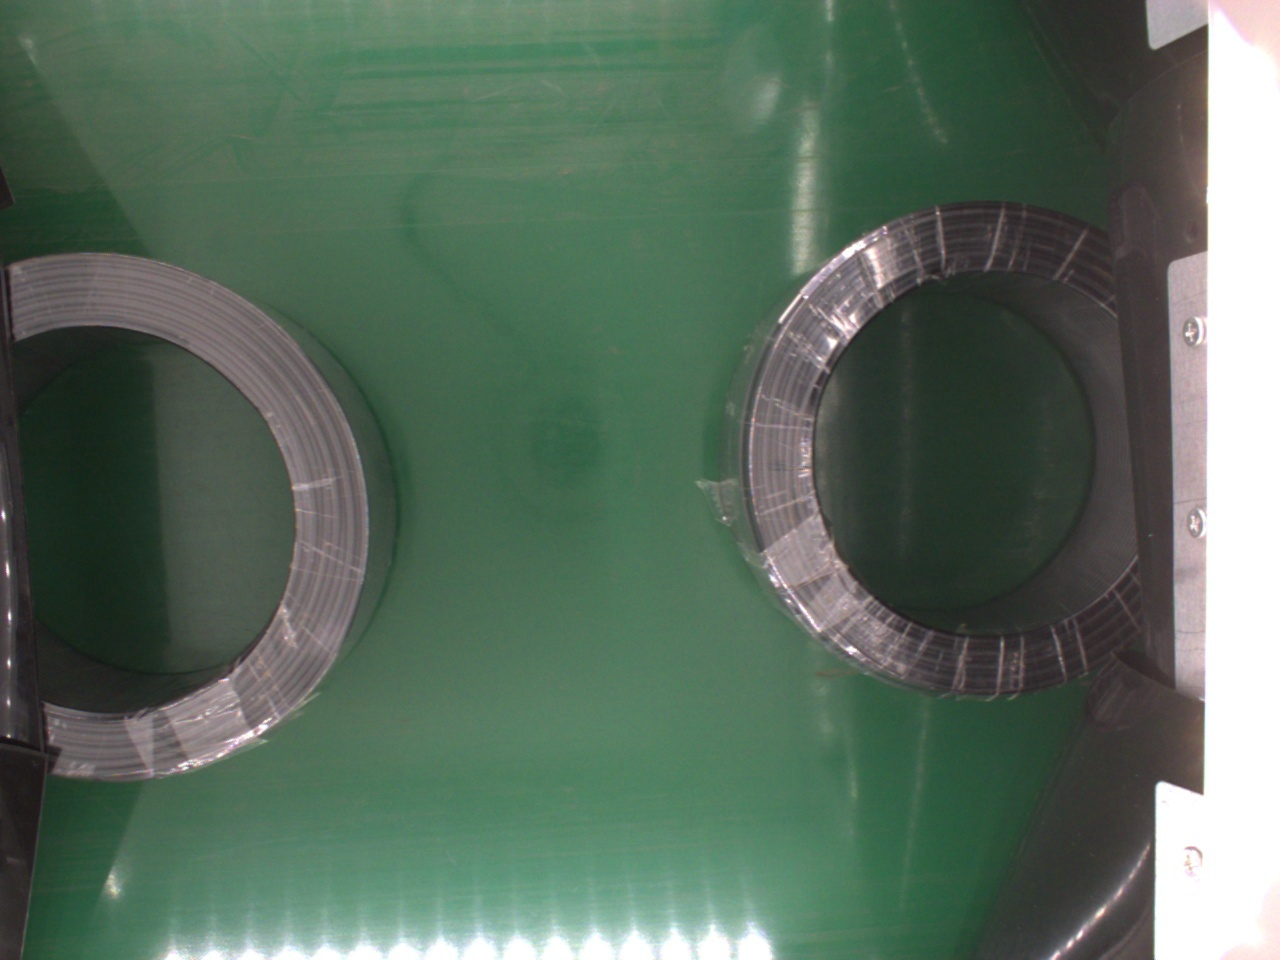black: (721, 200, 1138, 699), (11, 245, 390, 782)
